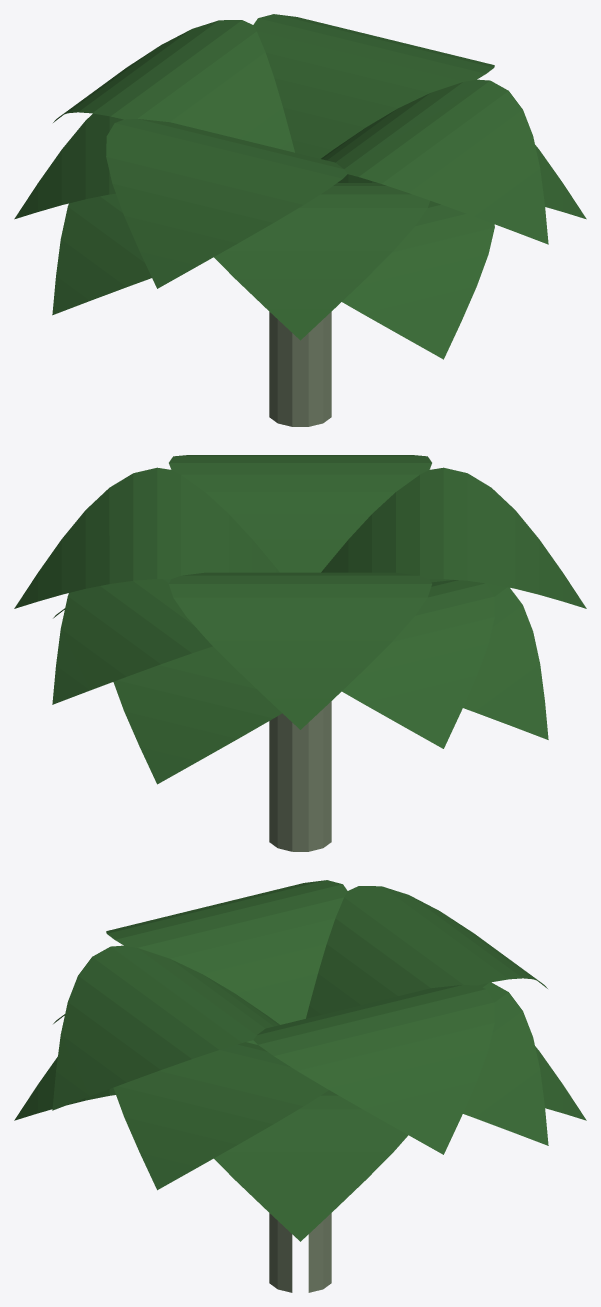
Rendered from shrub.glb.
3 renders of one model, top to bottom at view 1: azimuth 30°, elevation 25°; view 2: azimuth 150°, elevation 25°; view 3: azimuth 270°, elevation 25°, orthographic.
Bounding box in the file's own units: 1.76 × 1.07 × 1.76.
